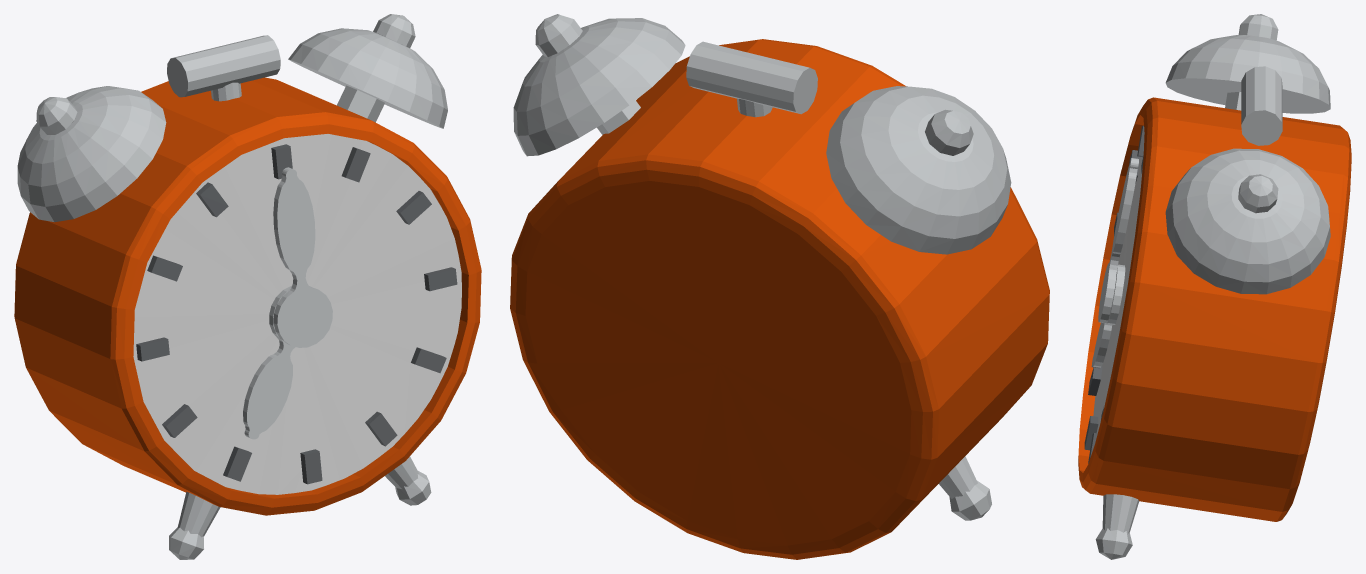
File: alarm_clock_1.glb
3 renders of one model, left to right at view 1: azimuth 30°, elevation 25°; view 2: azimuth 150°, elevation 25°; view 3: azimuth 270°, elevation 25°, orthographic. The views are drawn at different scales.
Parts seen in each view (by area): view 1: Mesh_Mesh_head_geo.001_lambert2SG.001; view 2: Mesh_Mesh_head_geo.001_lambert2SG.001; view 3: Mesh_Mesh_head_geo.001_lambert2SG.001.
Boxes of the visible parts, x1=… form: Mesh_Mesh_head_geo.001_lambert2SG.001: x1=14, y1=14, x2=481, y2=559; Mesh_Mesh_head_geo.001_lambert2SG.001: x1=510, y1=14, x2=1049, y2=559; Mesh_Mesh_head_geo.001_lambert2SG.001: x1=1078, y1=14, x2=1351, y2=559.
Size of the model in its own units: 1.48 by 1.49 by 0.891.
